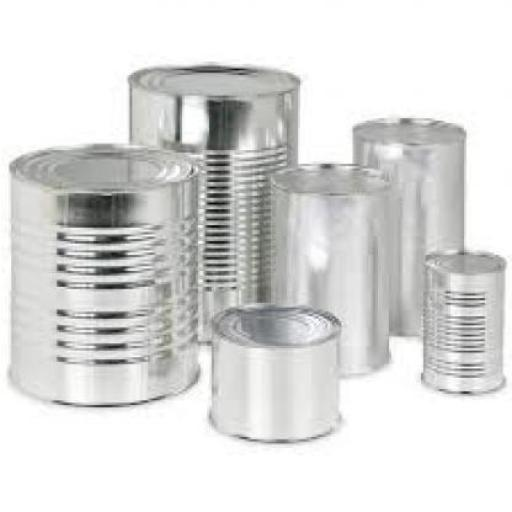metal: (11, 143, 203, 407), (132, 64, 300, 342), (275, 164, 398, 382), (355, 118, 468, 340), (212, 306, 343, 440), (424, 248, 504, 393)
